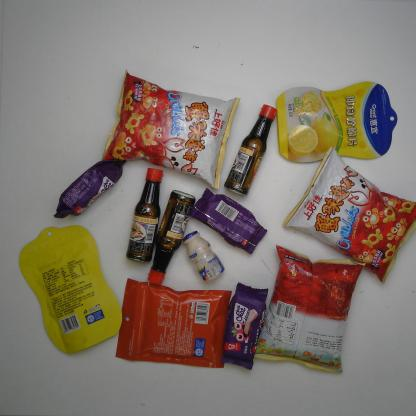Dessert: (186, 186, 270, 258), (51, 156, 128, 222), (219, 280, 272, 372)
Dried Fruit: (17, 223, 124, 356), (114, 277, 233, 370), (273, 80, 399, 166)
Milk: (180, 228, 227, 284)
Puffed Food: (278, 144, 416, 288), (98, 66, 242, 190), (252, 242, 368, 376)
Seasoner: (222, 100, 280, 199), (144, 188, 197, 286), (122, 165, 166, 266)
